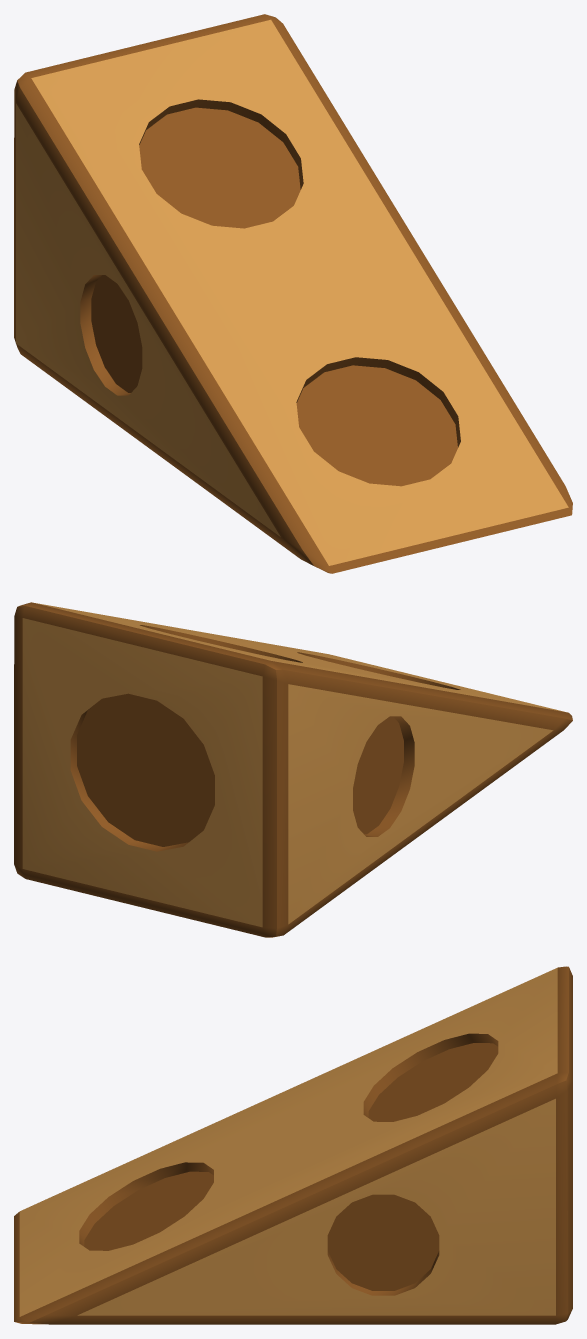
Rendered from Triangle.fbx.
The picture shows the model from 3 angles, top to bottom: view 1: azimuth 30°, elevation 25°; view 2: azimuth 150°, elevation 25°; view 3: azimuth 270°, elevation 25°; orthographic projection. The views are drawn at different scales.
Parts seen in each view (by area): view 1: Triangle_LOD0; view 2: Triangle_LOD0; view 3: Triangle_LOD0.
Boxes of the visible parts, x1,y1,x2,y2 form: Triangle_LOD0: [14, 14, 572, 573]; Triangle_LOD0: [14, 602, 572, 937]; Triangle_LOD0: [14, 966, 572, 1324].
Size of what is drawn, in the model's own units: 0.0873 by 0.0852 by 0.1717.
